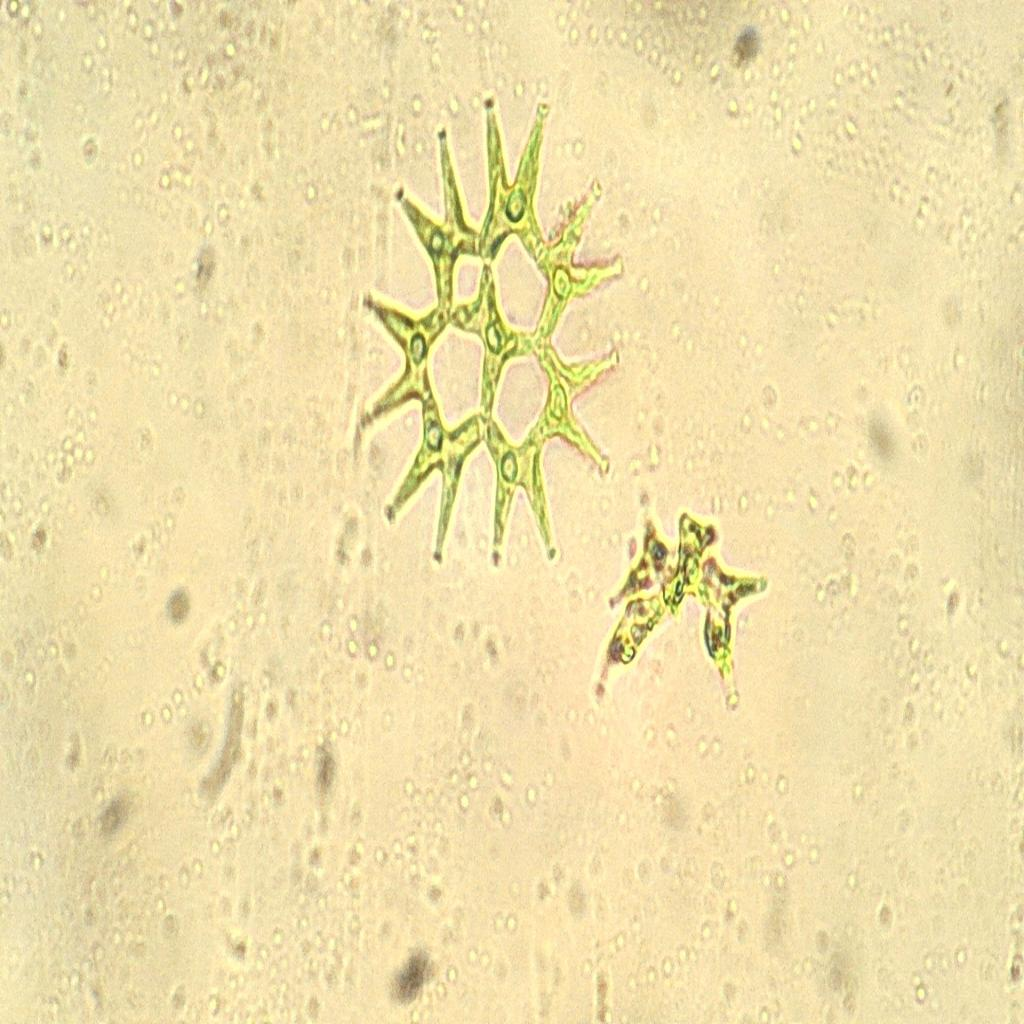Pediastrum_75T: (349, 83, 637, 590)
